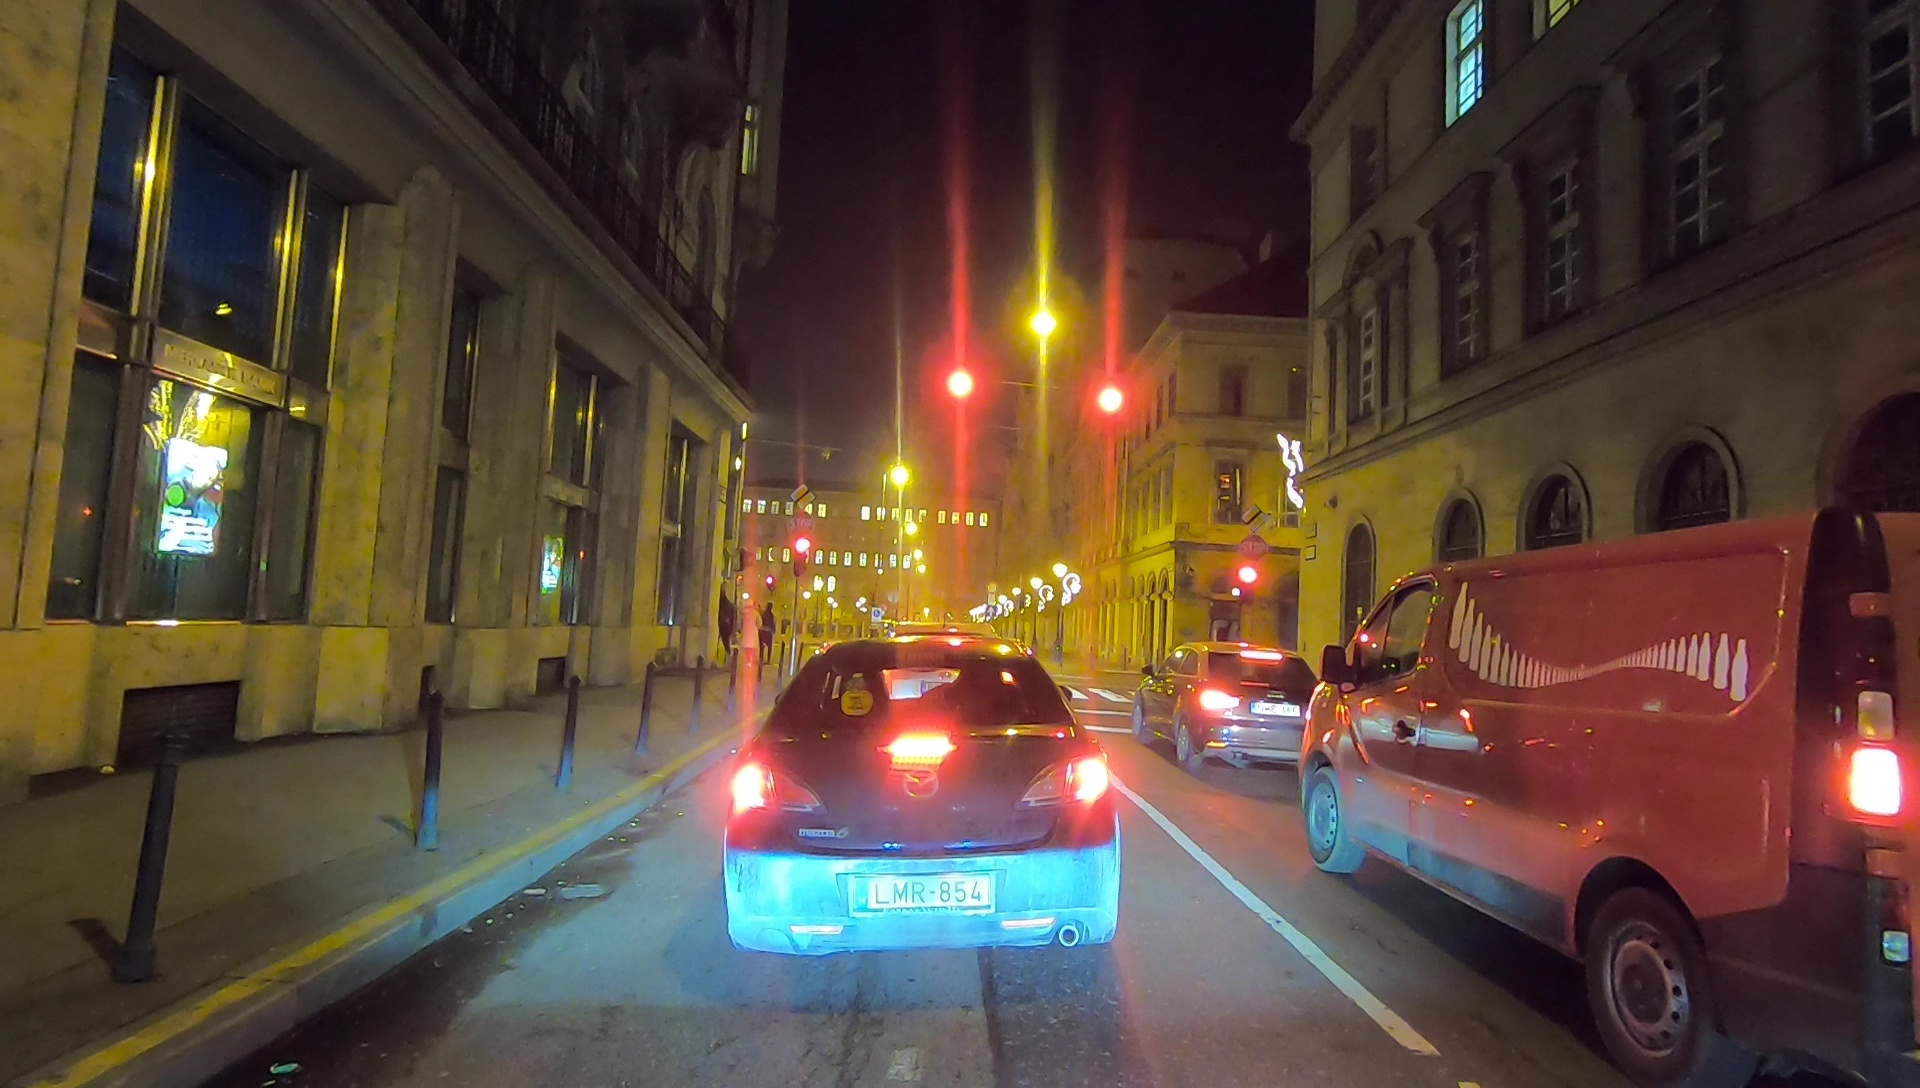person: (741, 602, 758, 667), (758, 600, 776, 661)
